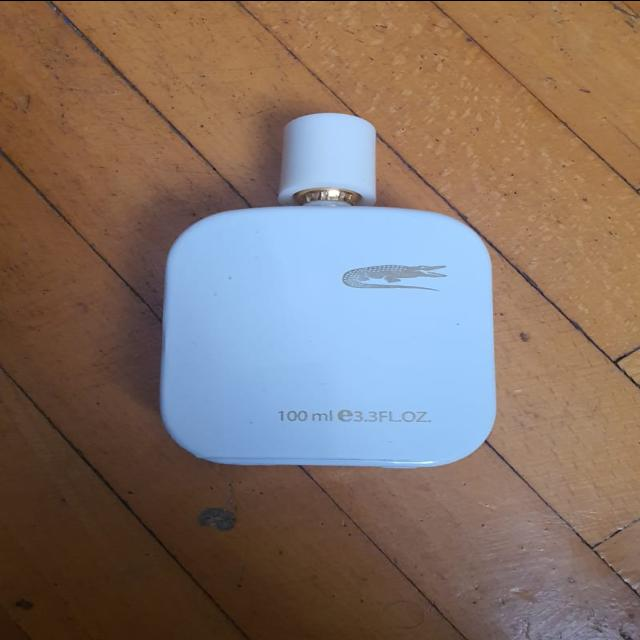glass: (161, 114, 500, 470)
